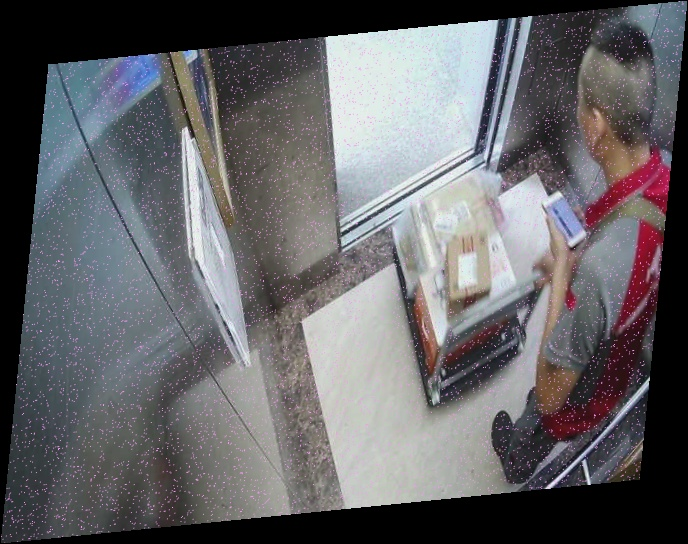box: (394, 168, 532, 332)
person: (497, 21, 678, 483)
